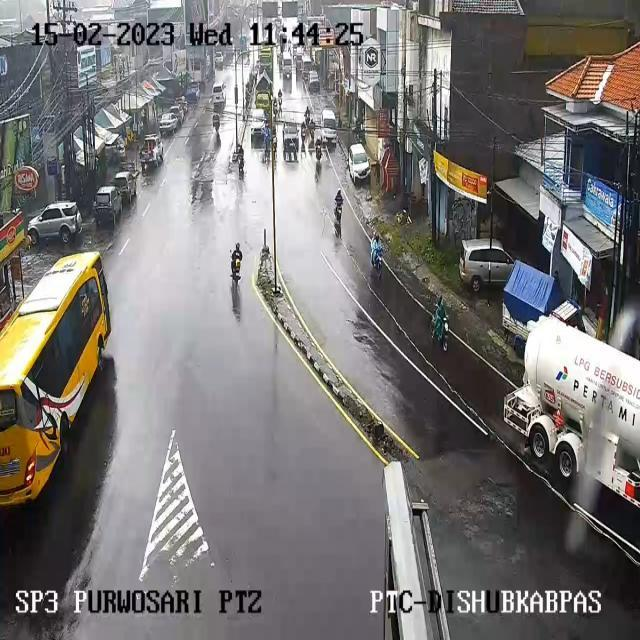Bus: (1, 252, 120, 518)
Car: (458, 238, 514, 291), (27, 201, 82, 245), (93, 186, 124, 226), (348, 144, 370, 183), (139, 135, 164, 168), (112, 171, 136, 202), (320, 109, 338, 143), (282, 125, 300, 158), (251, 109, 268, 142), (159, 112, 179, 134), (212, 81, 226, 107), (184, 83, 201, 104), (169, 105, 185, 125), (114, 137, 126, 159), (145, 55, 163, 69), (301, 54, 312, 76), (282, 52, 292, 76), (308, 72, 320, 92), (176, 97, 188, 117), (255, 60, 268, 76), (223, 48, 234, 65), (214, 51, 224, 68), (295, 46, 305, 62), (280, 31, 287, 50), (295, 54, 303, 70)
Motorbike: (434, 294, 452, 349), (228, 242, 245, 290), (371, 230, 385, 278), (334, 190, 344, 233), (396, 208, 412, 226), (402, 192, 412, 218), (262, 135, 270, 157), (315, 137, 323, 157), (212, 113, 220, 131), (238, 154, 245, 174), (235, 144, 243, 160), (304, 106, 310, 123), (301, 122, 307, 139), (309, 118, 316, 132)
Truck: (515, 310, 640, 505), (503, 258, 583, 342), (255, 71, 271, 109), (260, 47, 273, 73)
